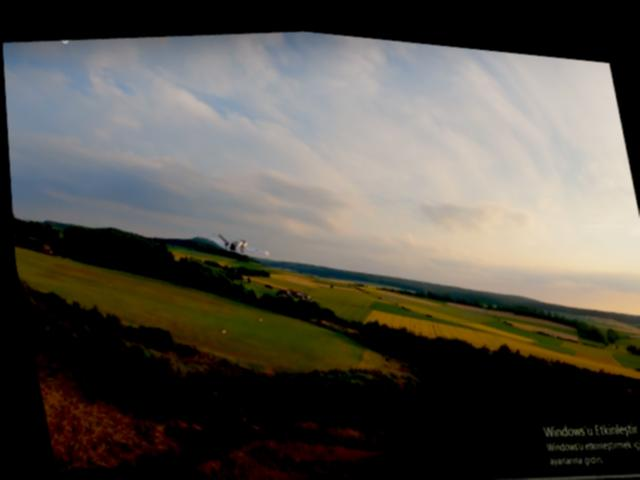plane: (212, 222, 267, 259)
